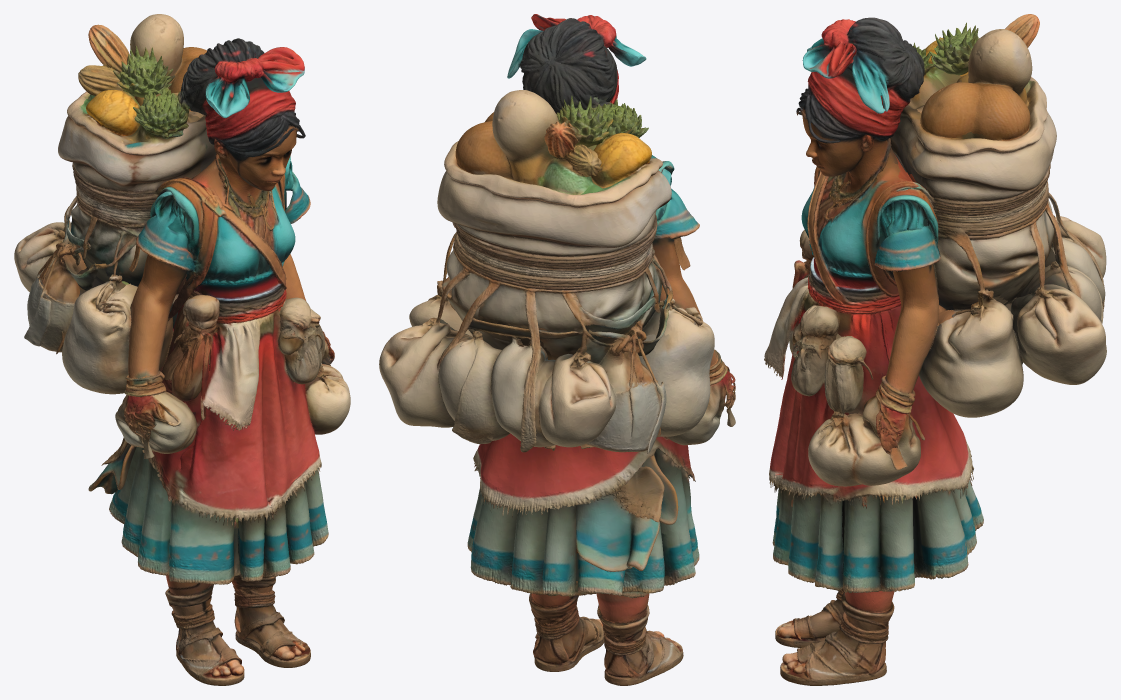
Rendered from settler.glb.
3 views of the same model, side by side, from view 1: azimuth 30°, elevation 25°; view 2: azimuth 150°, elevation 25°; view 3: azimuth 270°, elevation 25° (orthographic). The views are drawn at different scales.
Bounding box in the file's own units: 0.8139 × 1.85 × 0.8987.
1 material, 1 textured.
